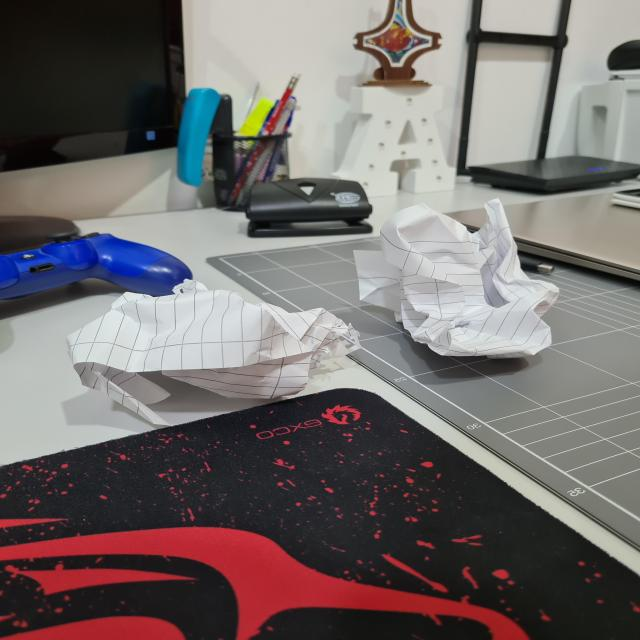kertas: (77, 293, 360, 405), (373, 198, 558, 366)
